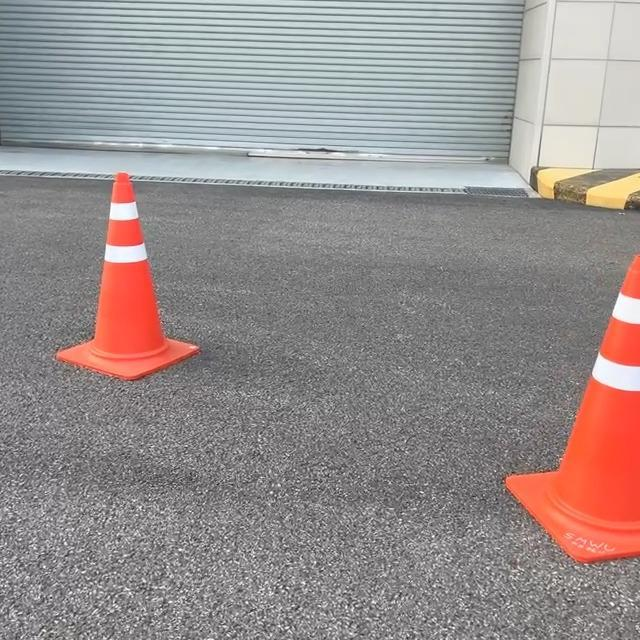fallen_object: (519, 170, 640, 628), (67, 145, 214, 425)
